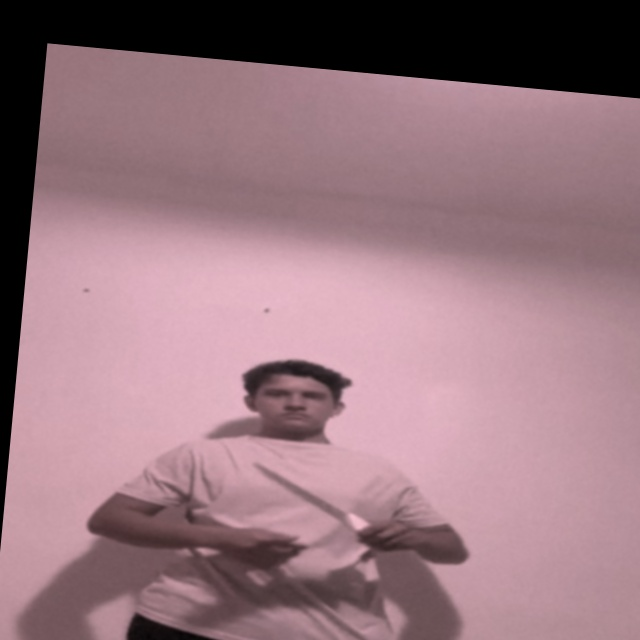Sharp-Object: (246, 465, 361, 527)
